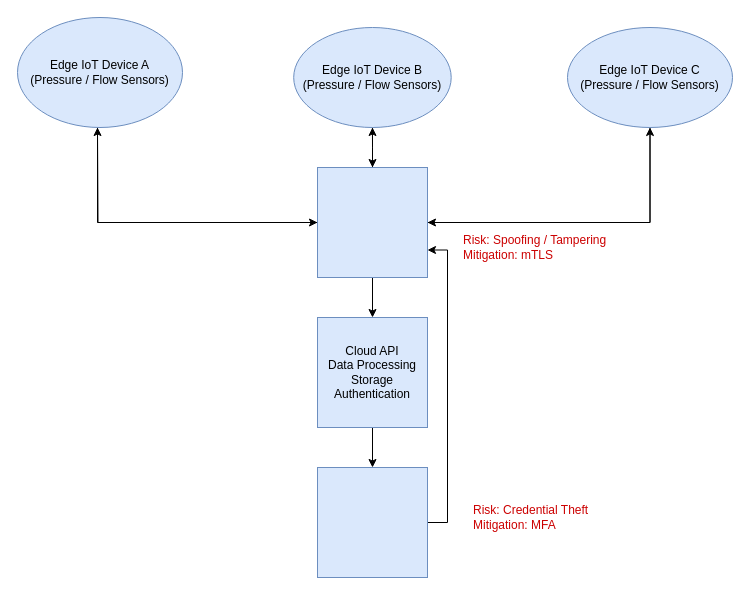
Image size: 750x595. Some labels were removed from this diagram. The centre of each missing label's shape, as x and y in pixels:
MQTT Broker Topic Routing TLS Enabled: the point at 372,222
Operator Dashboard Web Interface Command Control: the point at 372,522
